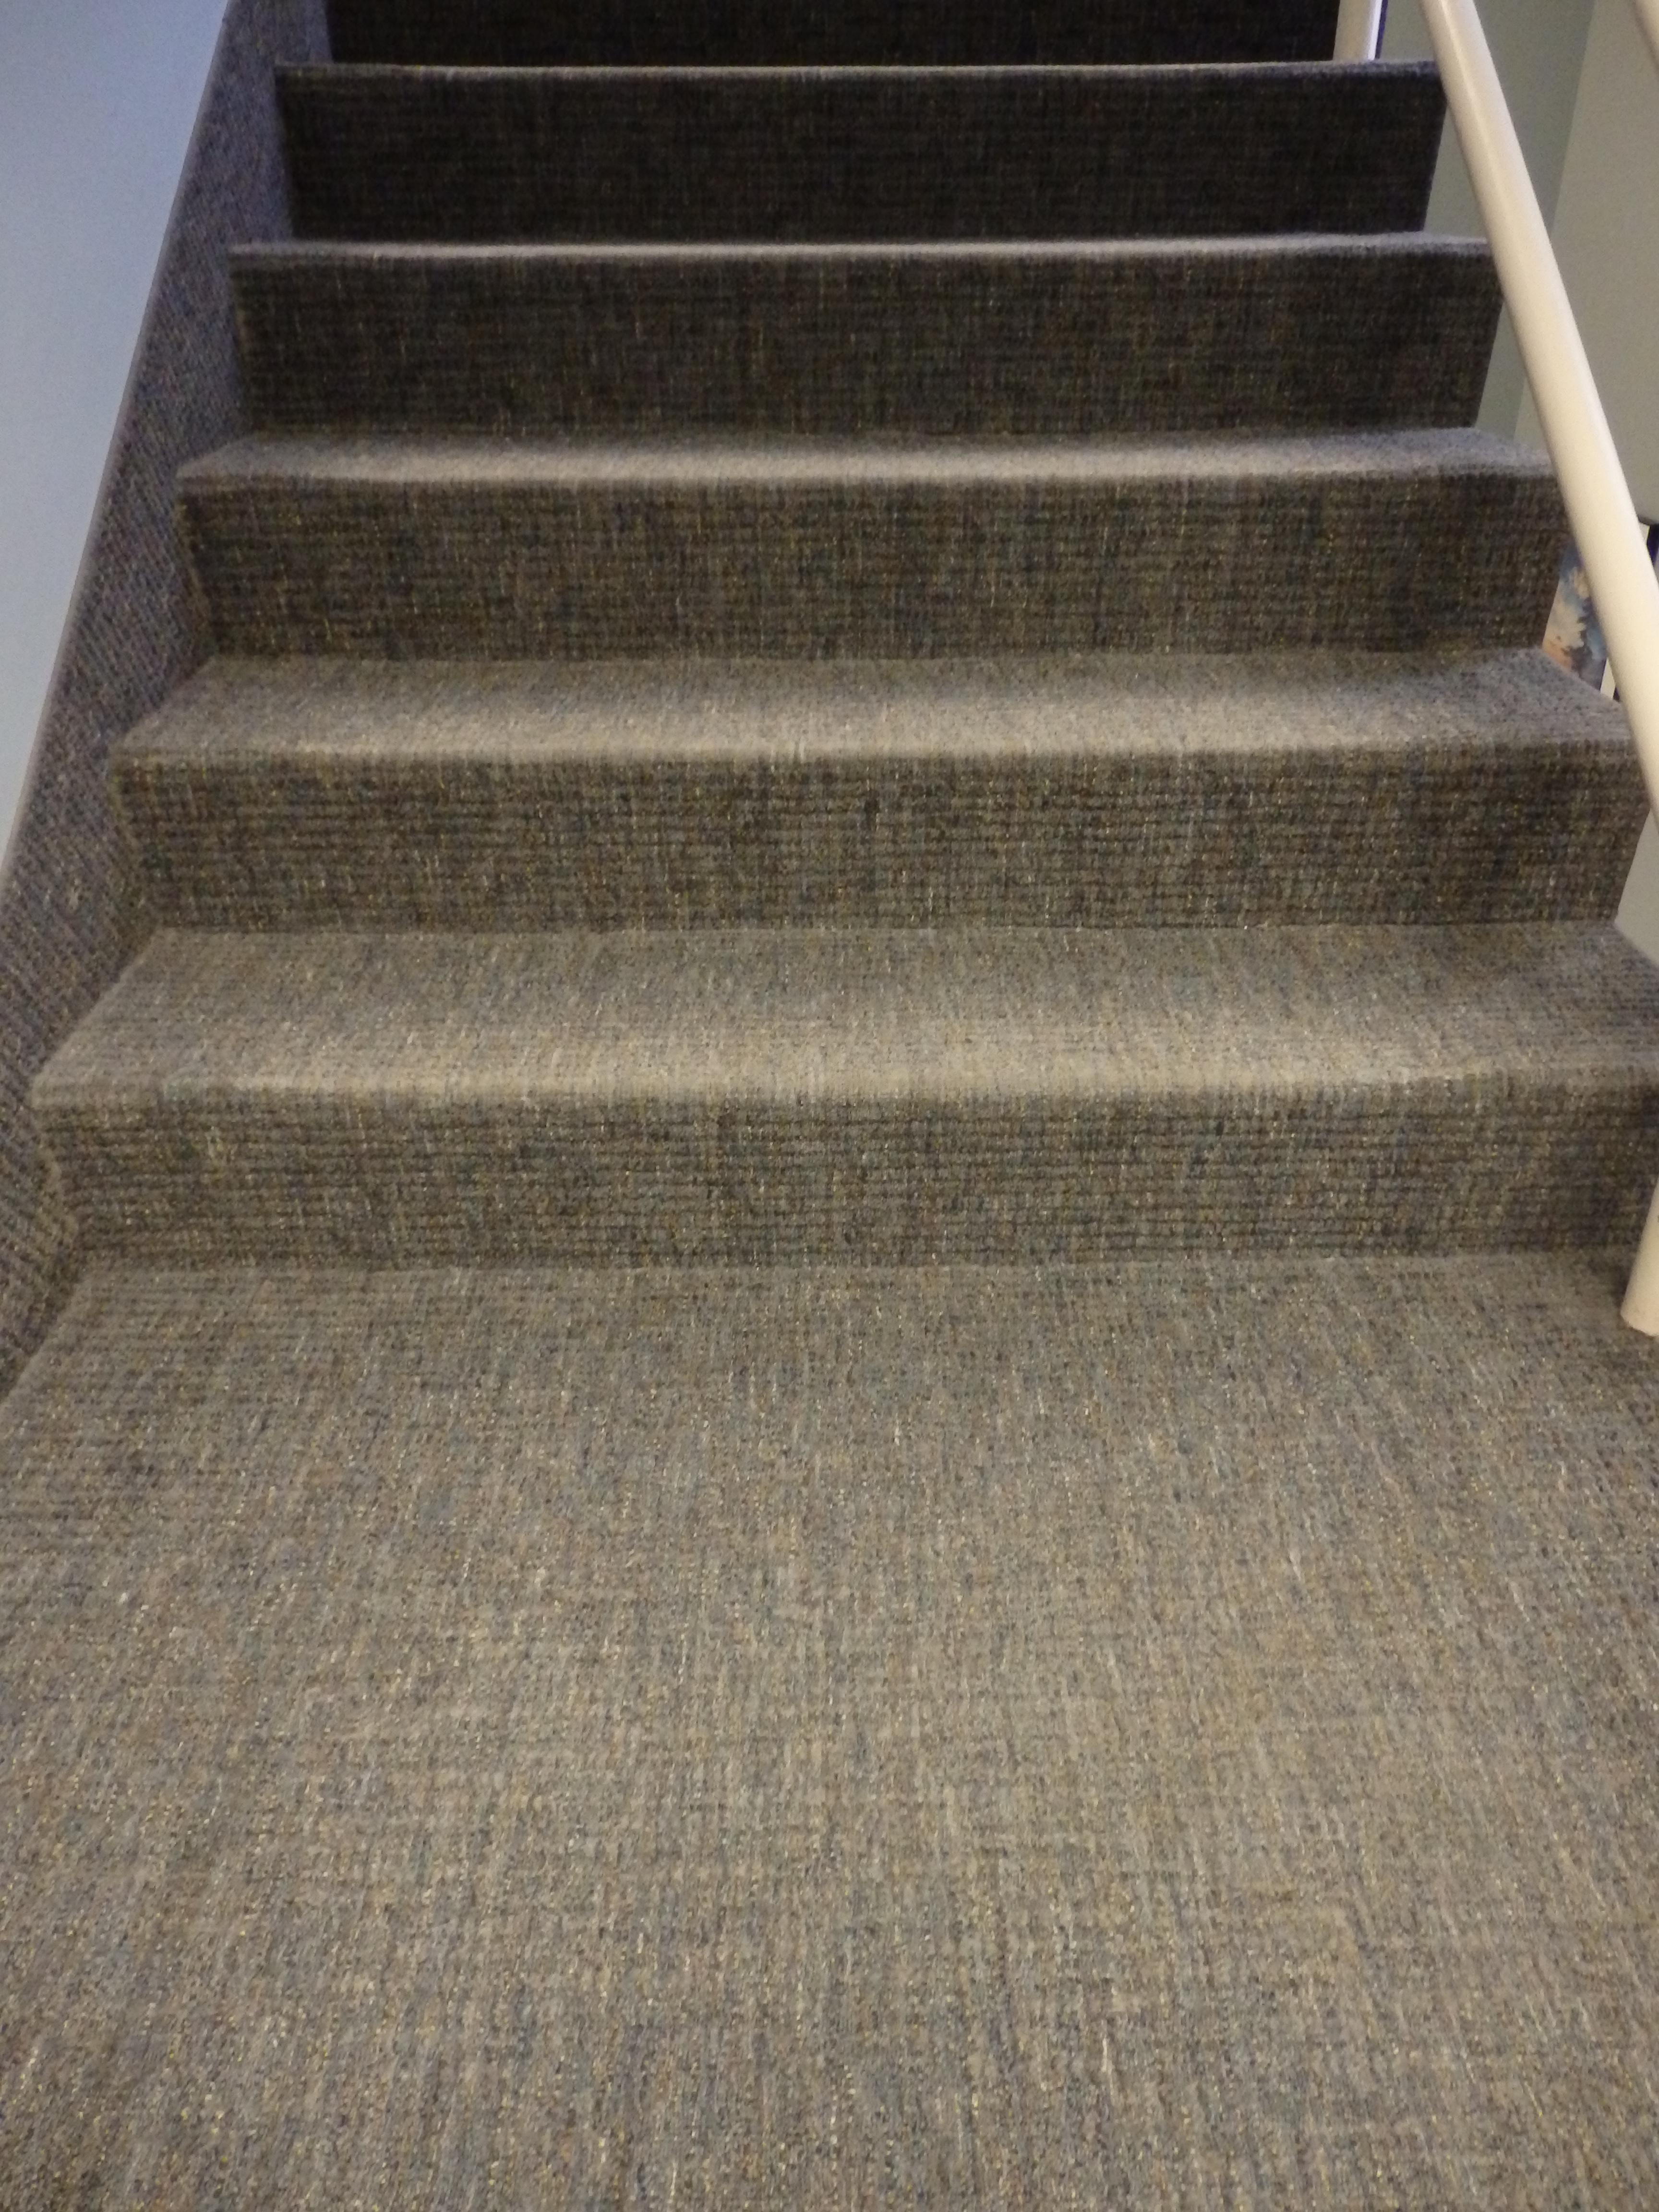stairs_up: (52, 37, 1560, 1285)
